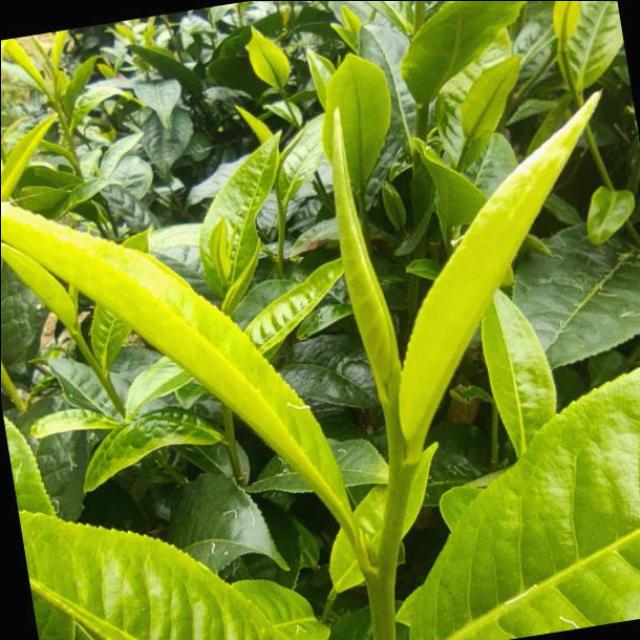Stem: (385, 468, 411, 537), (72, 331, 87, 351), (52, 103, 63, 119), (274, 180, 280, 197), (280, 90, 287, 101)
